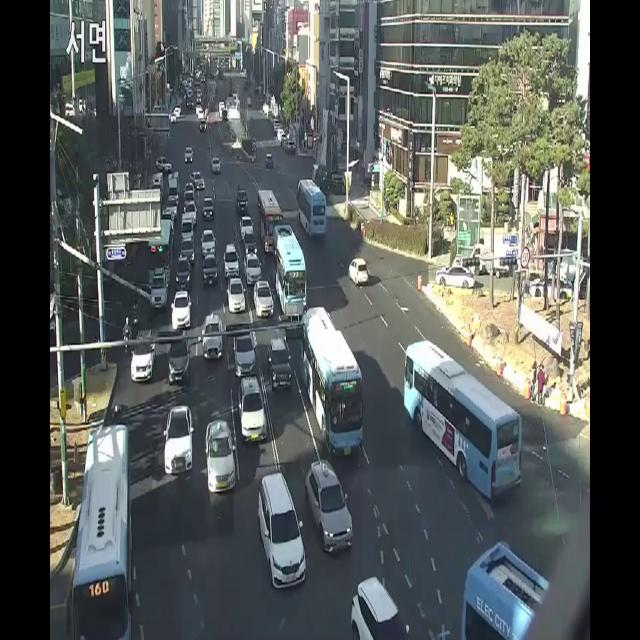bus: (121, 314, 133, 357)
car: (395, 329, 534, 511), (61, 413, 142, 640), (299, 300, 369, 468), (291, 175, 332, 241)
motorcycle: (255, 467, 309, 603), (304, 455, 362, 559), (201, 415, 239, 505), (160, 404, 195, 482), (346, 252, 372, 293)
